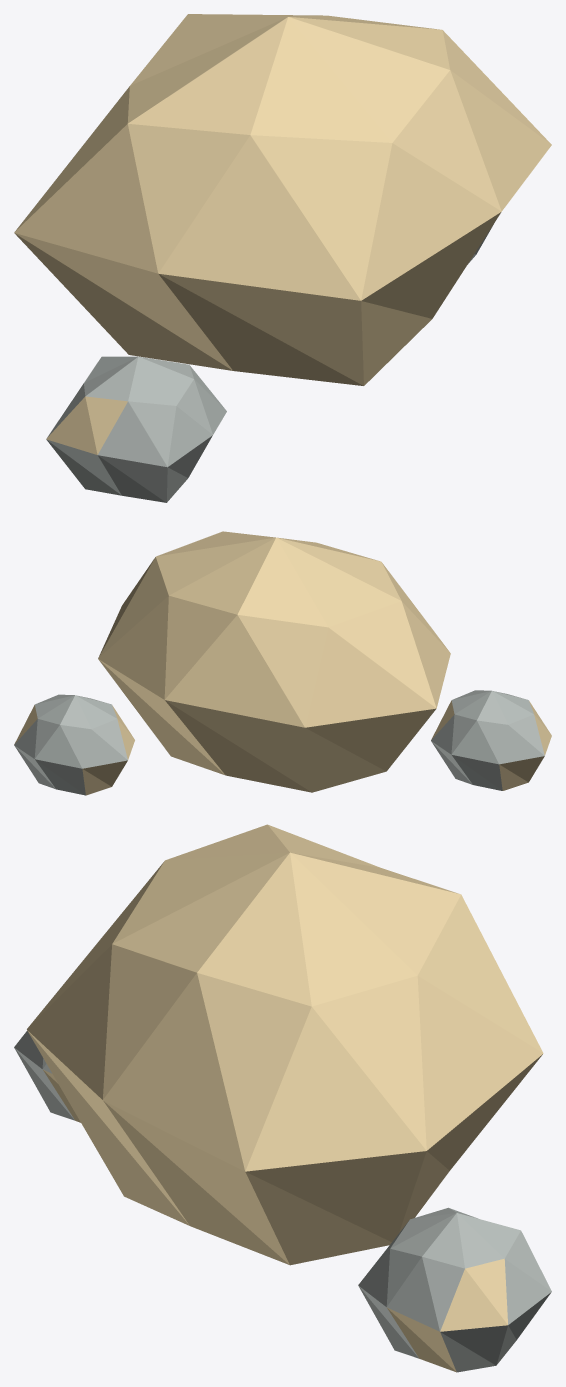
The model's file is retrophyllum-lefipan-1409886.c1a126bd9a42.glb.
3 views of the same model, one above another, from view 1: azimuth 30°, elevation 25°; view 2: azimuth 150°, elevation 25°; view 3: azimuth 270°, elevation 25° (orthographic). The views are drawn at different scales.
Visible parts, largest first — view 1: retrophyllum-lefipan-1409886; view 2: retrophyllum-lefipan-1409886; view 3: retrophyllum-lefipan-1409886.
Part boxes in pixels (bbox=[...]): retrophyllum-lefipan-1409886: bbox=[14, 14, 551, 502]; retrophyllum-lefipan-1409886: bbox=[14, 531, 551, 795]; retrophyllum-lefipan-1409886: bbox=[14, 824, 551, 1372].
Bounding box in the file's own units: 1 × 0.567 × 0.6966.
